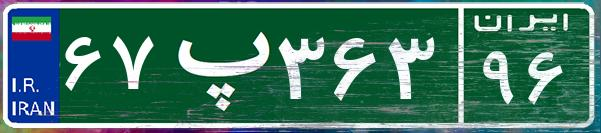3: (385, 28, 445, 110), (273, 28, 330, 110)
6: (330, 28, 385, 110), (57, 26, 110, 107), (525, 38, 570, 115)
7: (110, 28, 158, 105)
9: (475, 38, 525, 113)
پ: (158, 15, 273, 115)
